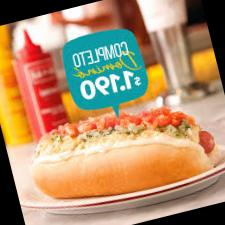Completos: (17, 86, 214, 206)
